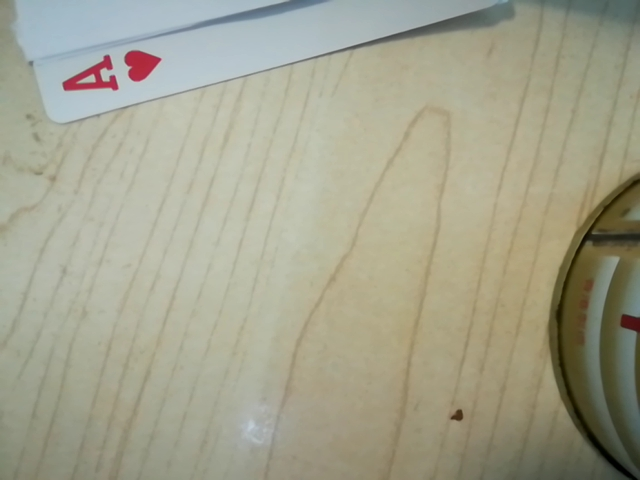hx a: (47, 45, 149, 105)
